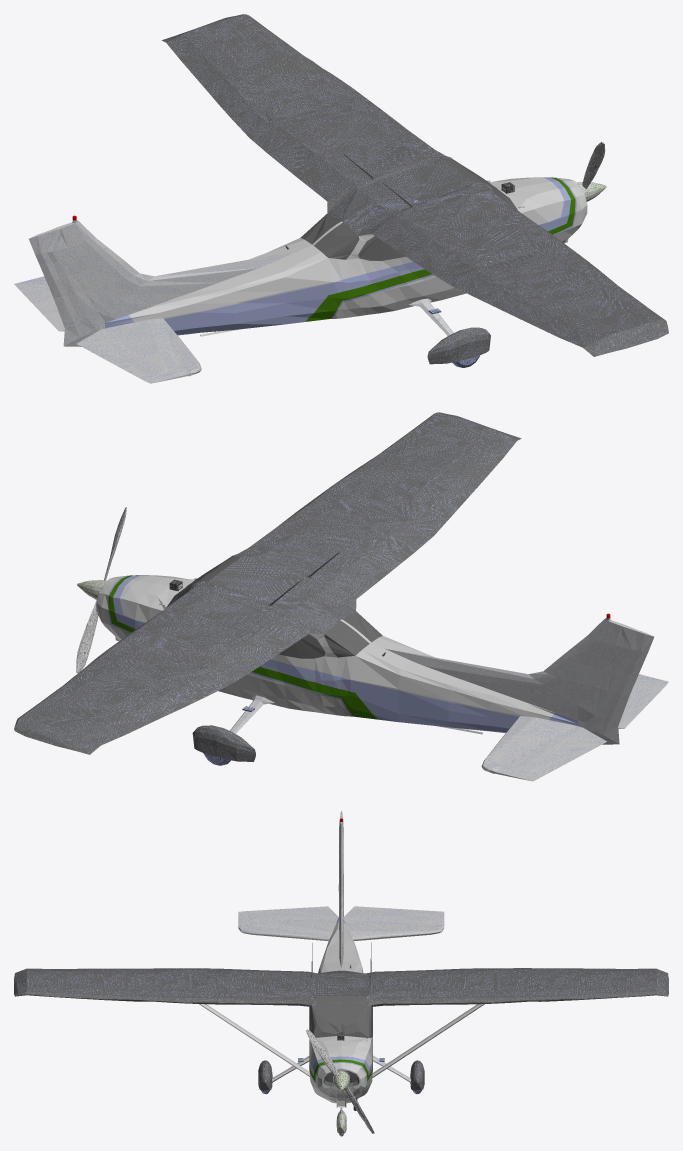
The picture shows the model from 3 angles, top to bottom: view 1: azimuth 30°, elevation 25°; view 2: azimuth 150°, elevation 25°; view 3: azimuth 270°, elevation 25°; orthographic projection. The views are drawn at different scales.
Visible parts, largest first — view 1: mesh8.004_mesh8-geometry, mesh36.004_mesh36-geometry, mesh5.004_mesh5-geometry, mesh38.005_mesh38-geometry, mesh4.004_mesh4-geometry, mesh6.004_mesh6-geometry, mesh12.004_mesh12-geometry; view 2: mesh8.004_mesh8-geometry, mesh36.004_mesh36-geometry, mesh4.004_mesh4-geometry, mesh42.005_mesh42-geometry, mesh5.004_mesh5-geometry, mesh7.004_mesh7-geometry, mesh14.004_mesh14-geometry, mesh1.004_mesh1-geometry; view 3: mesh8.004_mesh8-geometry, mesh4.004_mesh4-geometry, mesh5.004_mesh5-geometry, mesh10.004_mesh10-geometry, mesh36.004_mesh36-geometry, mesh46.004_mesh46-geometry, mesh48.004_mesh48-geometry.
Part boxes in pixels (<box>): mesh8.004_mesh8-geometry: <box>105,14,668,356</box>; mesh36.004_mesh36-geometry: <box>29,220,298,346</box>; mesh5.004_mesh5-geometry: <box>76,318,201,383</box>; mesh38.005_mesh38-geometry: <box>427,327,490,364</box>; mesh4.004_mesh4-geometry: <box>14,276,64,331</box>; mesh6.004_mesh6-geometry: <box>314,222,359,259</box>; mesh12.004_mesh12-geometry: <box>358,236,405,260</box>; mesh8.004_mesh8-geometry: <box>14,412,577,754</box>; mesh36.004_mesh36-geometry: <box>385,619,654,744</box>; mesh4.004_mesh4-geometry: <box>481,716,606,781</box>; mesh42.005_mesh42-geometry: <box>192,725,255,761</box>; mesh5.004_mesh5-geometry: <box>618,674,668,728</box>; mesh7.004_mesh7-geometry: <box>324,620,369,657</box>; mesh14.004_mesh14-geometry: <box>279,634,325,658</box>; mesh1.004_mesh1-geometry: <box>76,600,98,673</box>; mesh8.004_mesh8-geometry: <box>14,917,668,1103</box>; mesh4.004_mesh4-geometry: <box>343,906,444,940</box>; mesh5.004_mesh5-geometry: <box>238,906,338,940</box>; mesh10.004_mesh10-geometry: <box>309,996,372,1037</box>; mesh36.004_mesh36-geometry: <box>338,811,343,968</box>; mesh46.004_mesh46-geometry: <box>372,1004,484,1077</box>; mesh48.004_mesh48-geometry: <box>199,1004,309,1076</box>.
Size of the model in its own units: 0.5977 by 0.1945 by 0.7777.
